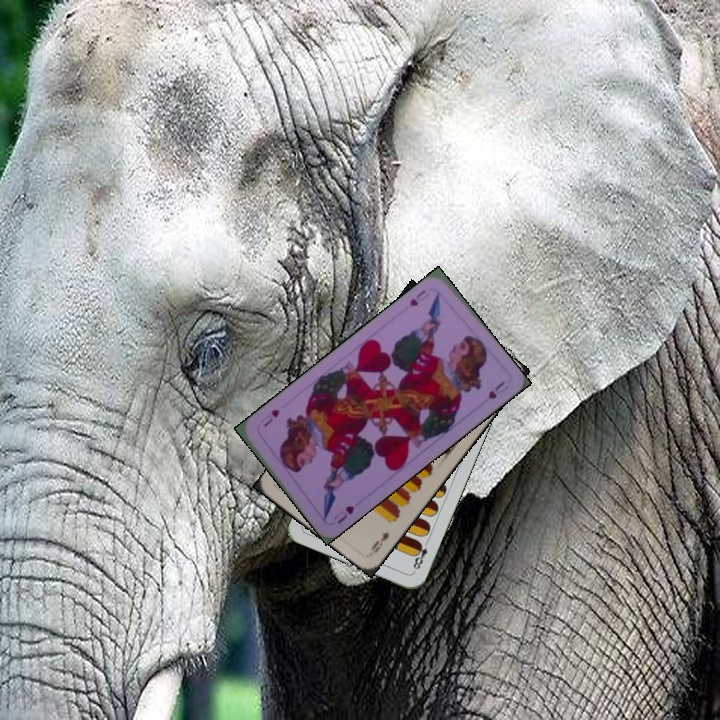E8: (409, 536, 432, 575)
E9: (367, 527, 392, 556)
HU: (329, 501, 357, 526), (405, 285, 434, 309)
